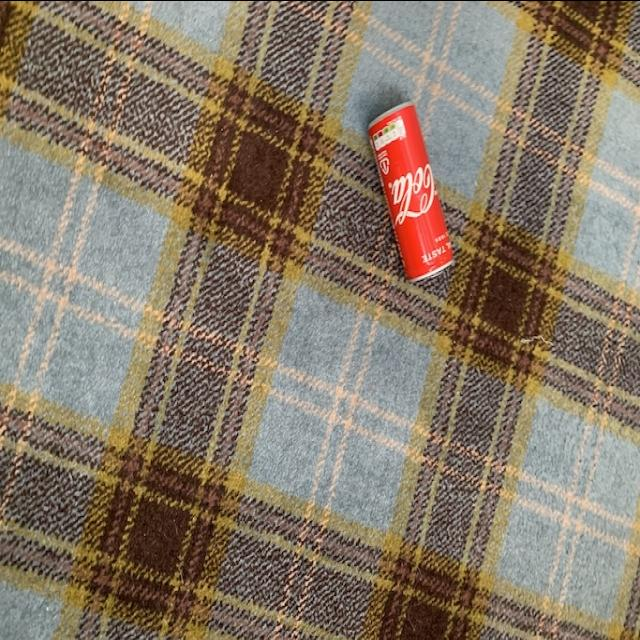Aluminum Can: (362, 99, 459, 289)
